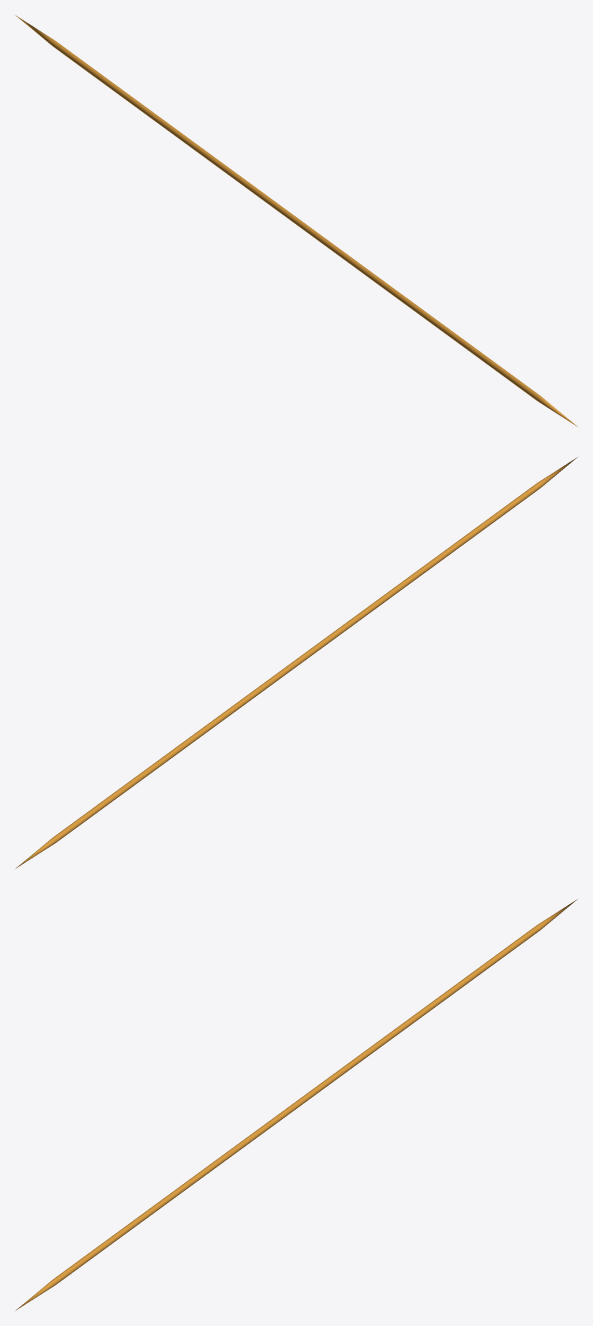
The model's file is Band.fbx.
3 views of the same model, one above another, from view 1: azimuth 30°, elevation 25°; view 2: azimuth 150°, elevation 25°; view 3: azimuth 330°, elevation 25° (orthographic).
Visible parts, largest first — view 1: Band; view 2: Band; view 3: Band.
Part boxes in pixels (bbox=[...]): Band: bbox=[15, 15, 577, 426]; Band: bbox=[15, 457, 577, 868]; Band: bbox=[15, 899, 577, 1310].
Bounding box in the file's own units: 0.0066 × 0.0066 × 1.17.
